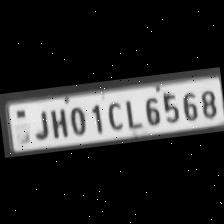0: (64, 103, 89, 136)
1: (86, 100, 106, 134)
5: (158, 89, 180, 125)
6: (138, 92, 162, 127), (177, 87, 200, 122)
8: (194, 86, 219, 119)
C: (102, 97, 125, 132)
H: (46, 104, 68, 140)
J: (29, 106, 51, 140)
L: (119, 96, 141, 130)
